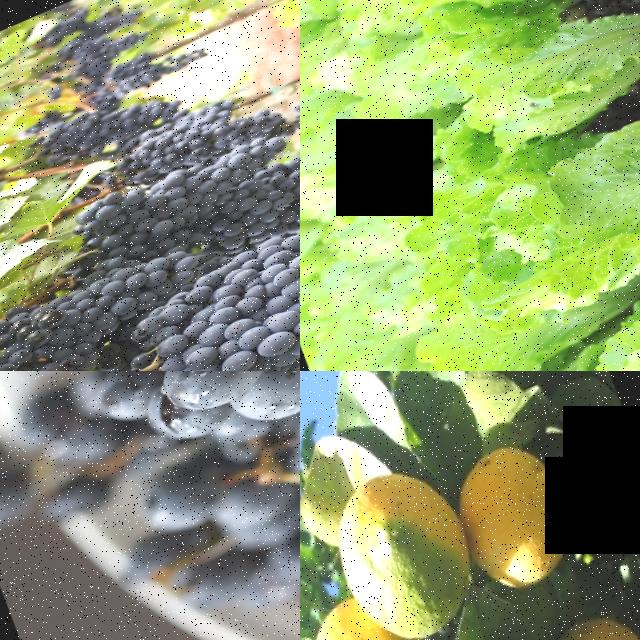grapes: (0, 371, 300, 589), (68, 122, 300, 268), (0, 236, 218, 371), (164, 155, 300, 371), (116, 85, 290, 196), (189, 156, 300, 275)
lemon: (317, 454, 498, 640), (437, 428, 602, 604), (300, 589, 443, 640)
lettuce: (357, 113, 640, 371), (300, 0, 570, 142)
